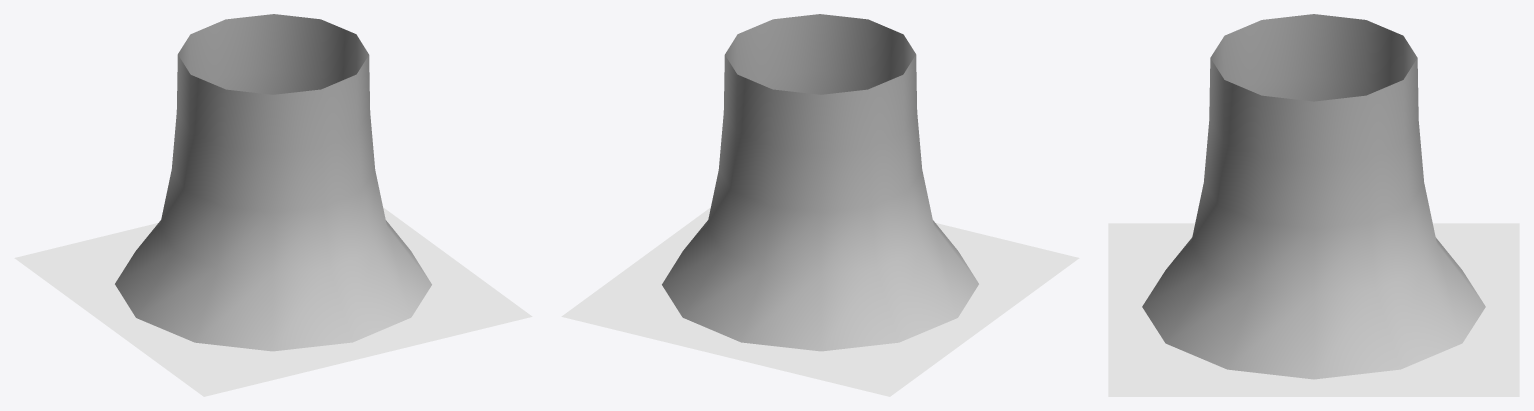
File: Eff_FirePillar_Action.FBX
3 views of the same model, side by side, from view 1: azimuth 30°, elevation 25°; view 2: azimuth 150°, elevation 25°; view 3: azimuth 270°, elevation 25° (orthographic). The views are drawn at different scales.
Visible parts, largest first — view 1: Eff_PillarFirex_base_big, Eff_PillarFire_base02; view 2: Eff_PillarFirex_base_big, Eff_PillarFire_base02; view 3: Eff_PillarFirex_base_big, Eff_PillarFire_base02.
Boxes of the visible parts, x1,y1,x2,y2 form: Eff_PillarFirex_base_big: [115, 14, 431, 351]; Eff_PillarFire_base02: [14, 207, 532, 396]; Eff_PillarFirex_base_big: [662, 14, 978, 351]; Eff_PillarFire_base02: [561, 207, 1079, 396]; Eff_PillarFirex_base_big: [1142, 14, 1485, 379]; Eff_PillarFire_base02: [1108, 223, 1519, 396].
Size of the model in its own units: 4 by 2.71 by 4.
